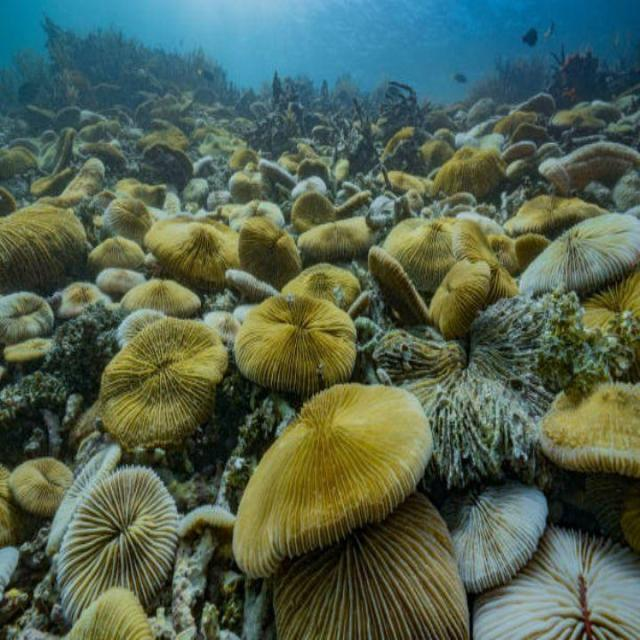Bleached Coral: (459, 473, 640, 640), (528, 204, 638, 292)
Healthy Coral: (57, 215, 466, 640), (536, 374, 640, 464), (430, 142, 508, 200)
